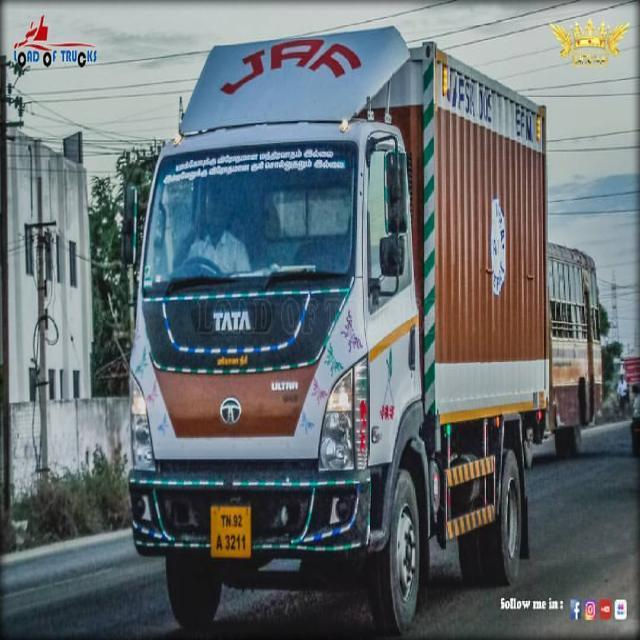Truck: (121, 33, 555, 632)
